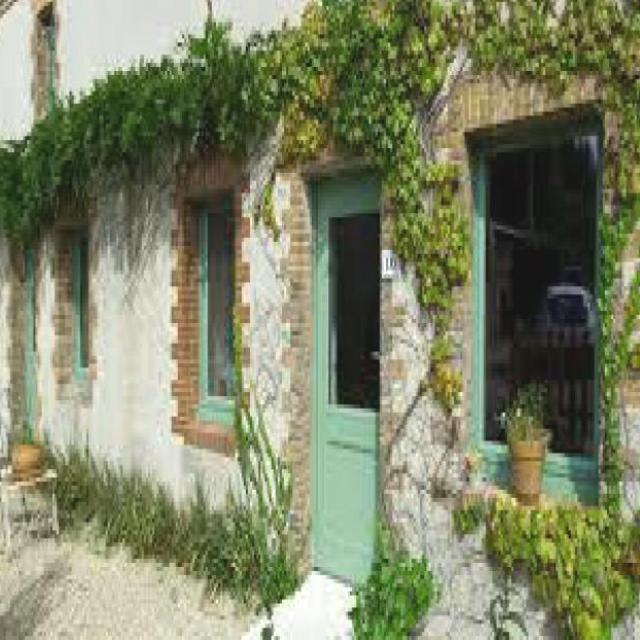door: (308, 170, 381, 588)
